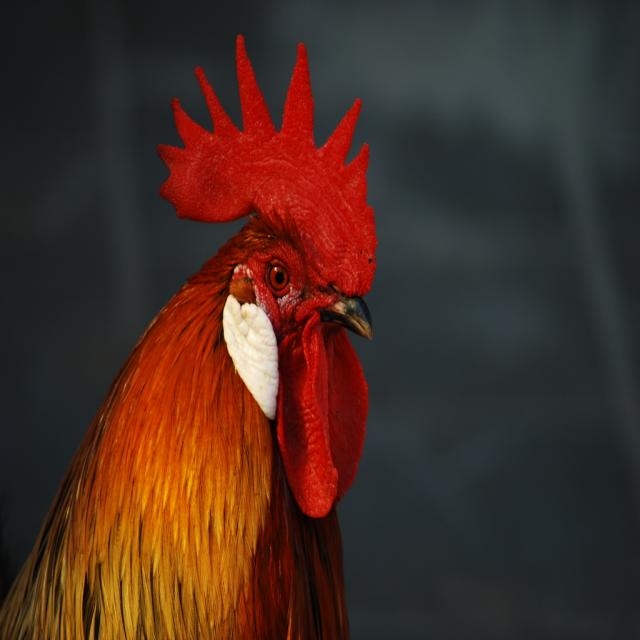Chicken: (0, 33, 377, 639)
